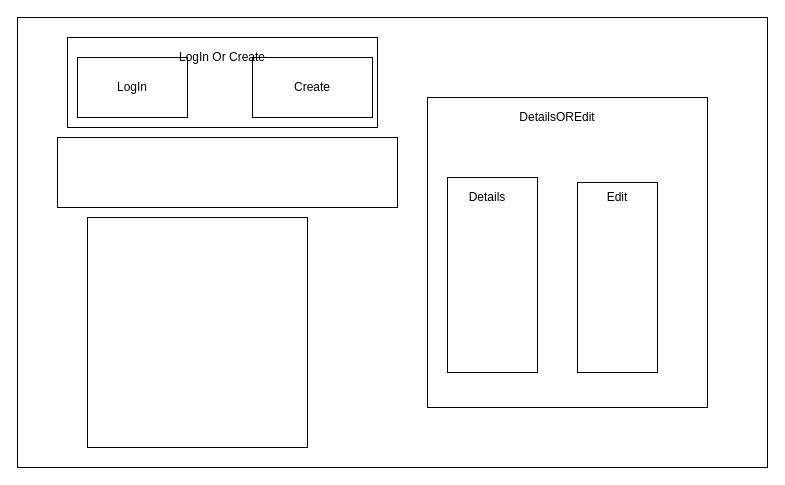
Some shapes in this 785 by 485 pixel diagram are drawn without their labels. The shapes that lost their labels are listed below. From the top down, each one's centre as x and y in pixels, then its label:
At pixel 227 172: "Search".
At pixel 197 332: "Reviews".
